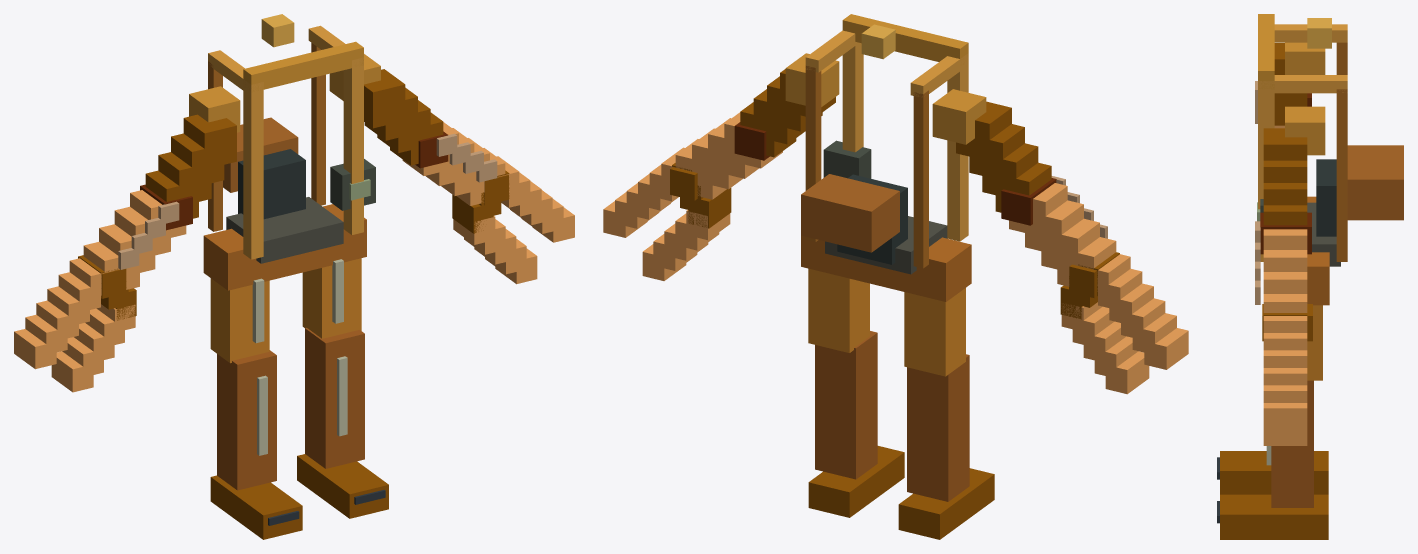
The model's file is CMU3DPowerLoaderDraft.glb.
3 views of the same model, side by side, from view 1: azimuth 30°, elevation 25°; view 2: azimuth 150°, elevation 25°; view 3: azimuth 270°, elevation 25° (orthographic). The views are drawn at different scales.
Parts seen in each view (by area): view 1: splayed upper arm (×8), right shin, left shin, fork U upper tine (×8), pelvis, fork U lower tine (×6), outward forearm (×5), seat base, left cage upright, left thigh, right foot, right thigh (+17 smaller); view 2: outward forearm (×8), splayed upper arm (×7), right shin, left shin, fork U lower tine (×8), counterweight, fork U upper tine (×6), pelvis, left thigh, right thigh, right foot, left foot (+16 smaller); view 3: fork U upper tine (×6), splayed upper arm (×6), right foot, counterweight, outward forearm (×4), right shin, left foot, right rear safety upright, right shoulder joint, seat back, right roof rail, right cage upright (+11 smaller).
Boxes of the visible parts, x1=… form: splayed upper arm (×8): x1=145, y1=69, x2=443, y2=218; right shin: x1=305, y1=328, x2=364, y2=468; left shin: x1=217, y1=350, x2=276, y2=490; fork U upper tine (×8): x1=14, y1=181, x2=574, y2=369; pelvis: x1=203, y1=204, x2=366, y2=290; fork U lower tine (×6): x1=51, y1=216, x2=526, y2=392; outward forearm (×5): x1=83, y1=138, x2=489, y2=289; seat base: x1=226, y1=197, x2=343, y2=263; left cage upright: x1=243, y1=79, x2=263, y2=259; left thigh: x1=210, y1=278, x2=269, y2=363; right foot: x1=297, y1=454, x2=388, y2=518; right thigh: x1=302, y1=258, x2=361, y2=338; outward forearm (×8): x1=675, y1=112, x2=1116, y2=286; splayed upper arm (×7): x1=740, y1=76, x2=1051, y2=212; right shin: x1=815, y1=331, x2=877, y2=479; left shin: x1=907, y1=354, x2=969, y2=501; fork U lower tine (×8): x1=642, y1=210, x2=1149, y2=394; counterweight: x1=801, y1=174, x2=899, y2=252; fork U upper tine (×6): x1=1097, y1=254, x2=1188, y2=369; pelvis: x1=801, y1=235, x2=971, y2=301; left thigh: x1=904, y1=288, x2=965, y2=376; right thigh: x1=808, y1=268, x2=869, y2=352; right foot: x1=808, y1=446, x2=904, y2=517; left foot: x1=898, y1=468, x2=994, y2=539; fork U upper tine (×6): x1=1263, y1=316, x2=1307, y2=431; splayed upper arm (×6): x1=1263, y1=43, x2=1307, y2=225; right foot: x1=1220, y1=494, x2=1328, y2=539; counterweight: x1=1347, y1=145, x2=1403, y2=220; outward forearm (×4): x1=1263, y1=229, x2=1307, y2=312; right shin: x1=1271, y1=380, x2=1313, y2=507; left foot: x1=1220, y1=451, x2=1328, y2=494; right rear safety upright: x1=1336, y1=89, x2=1347, y2=261; right shoulder joint: x1=1285, y1=106, x2=1325, y2=155; seat back: x1=1316, y1=159, x2=1336, y2=236; right roof rail: x1=1258, y1=75, x2=1347, y2=93; right cage upright: x1=1258, y1=81, x2=1274, y2=261.
Size of the model in its own units: 2.88 by 2.38 by 0.832.
